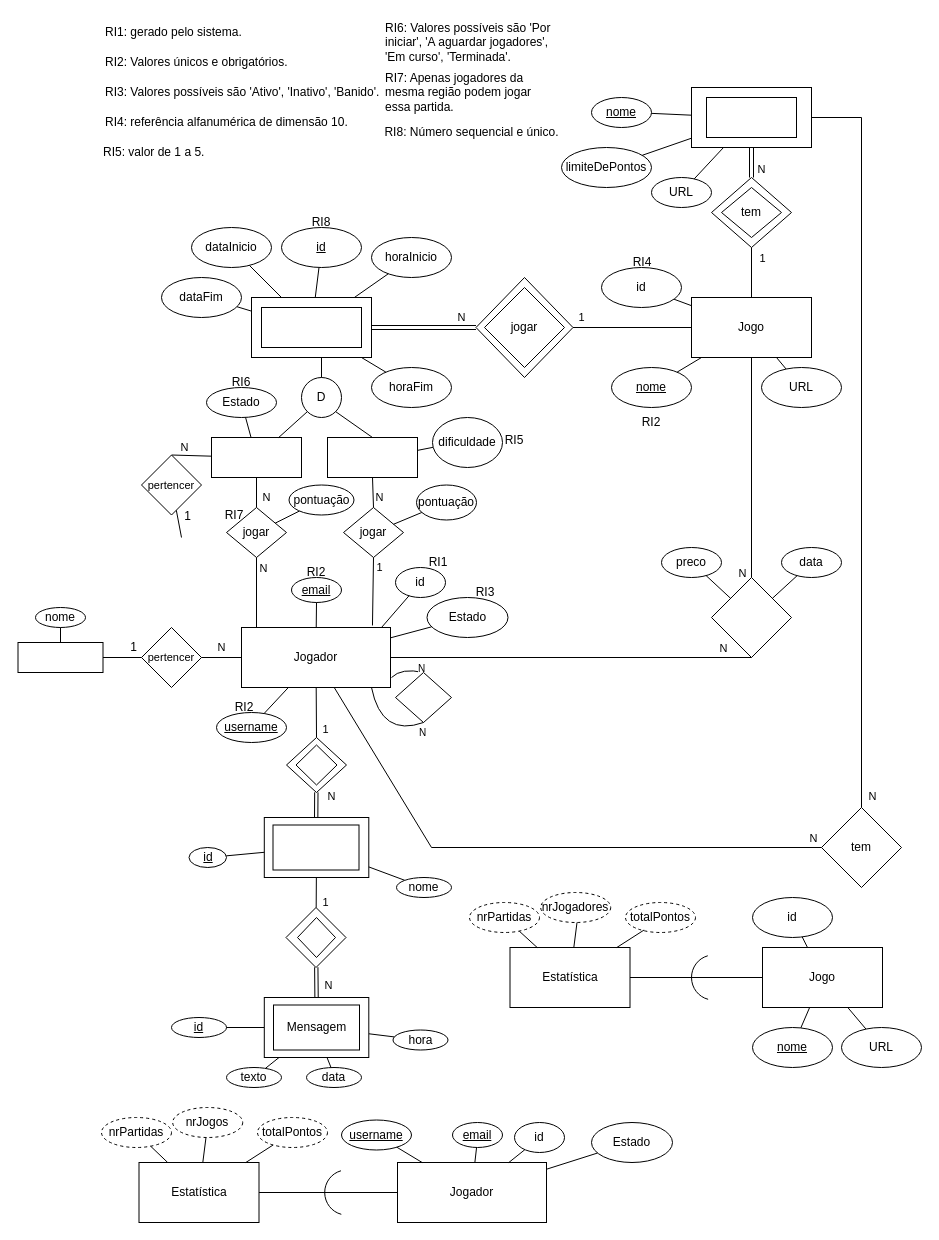
The diagram is 939 pixels wide and 1240 high, and some of its shapes have lost their labels. Here are the shapes that lost their labels. From the top down, the box of each, then its label:
(706, 96, 796, 138): Crachá
(260, 306, 362, 348): Partida
(210, 436, 302, 478): multi-jogador
(326, 436, 418, 478): normal
(710, 576, 792, 658): comprar
(17, 642, 103, 672): Região
(394, 672, 452, 722): adicionar
(286, 736, 346, 792): criar
(263, 816, 369, 878): Conversa
(285, 906, 346, 968): ter
